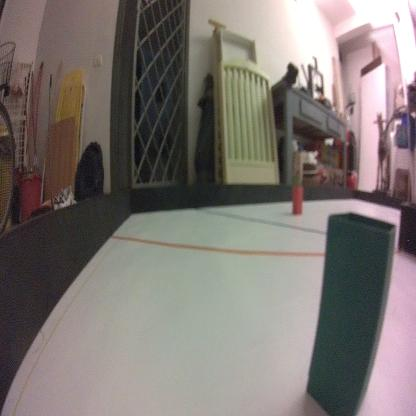green: (304, 209, 398, 416)
red: (292, 185, 303, 216)
